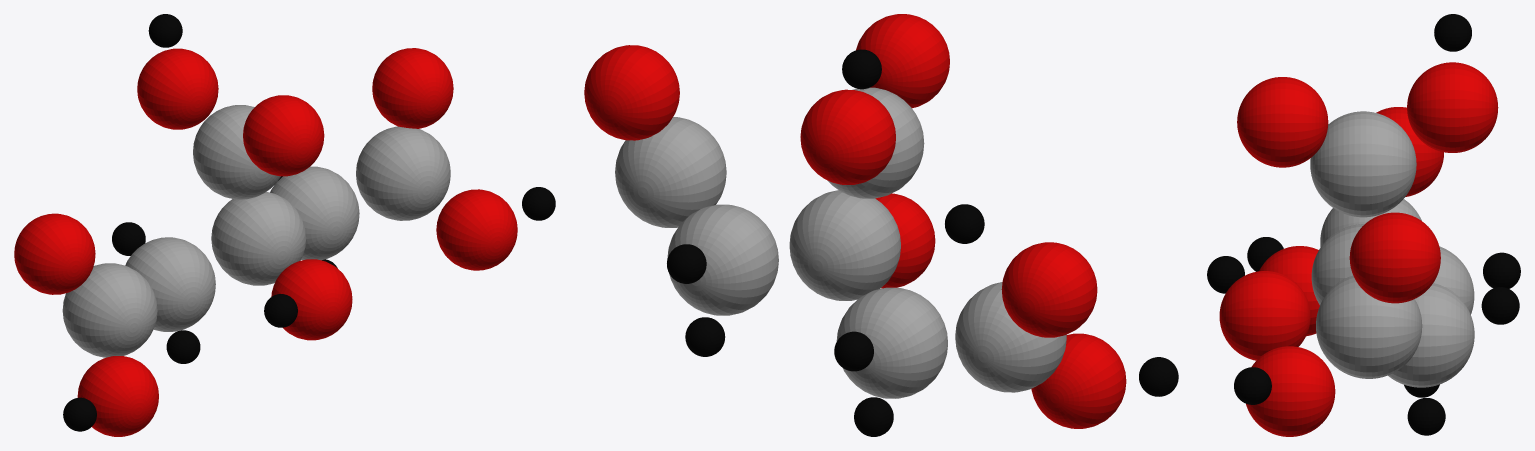
The model's file is Citric Acid.glb.
The picture shows the model from 3 angles, left to right: view 1: azimuth 30°, elevation 25°; view 2: azimuth 150°, elevation 25°; view 3: azimuth 270°, elevation 25°; orthographic projection. The views are drawn at different scales.
Parts seen in each view (by area): view 1: world; view 2: world; view 3: world.
Boxes of the visible parts, left/top/right/bottom form: world: left=14, top=14, right=555, bottom=436; world: left=584, top=14, right=1178, bottom=436; world: left=1207, top=14, right=1520, bottom=436.
Size of the model in its own units: 8.21 by 5.52 by 4.13.
